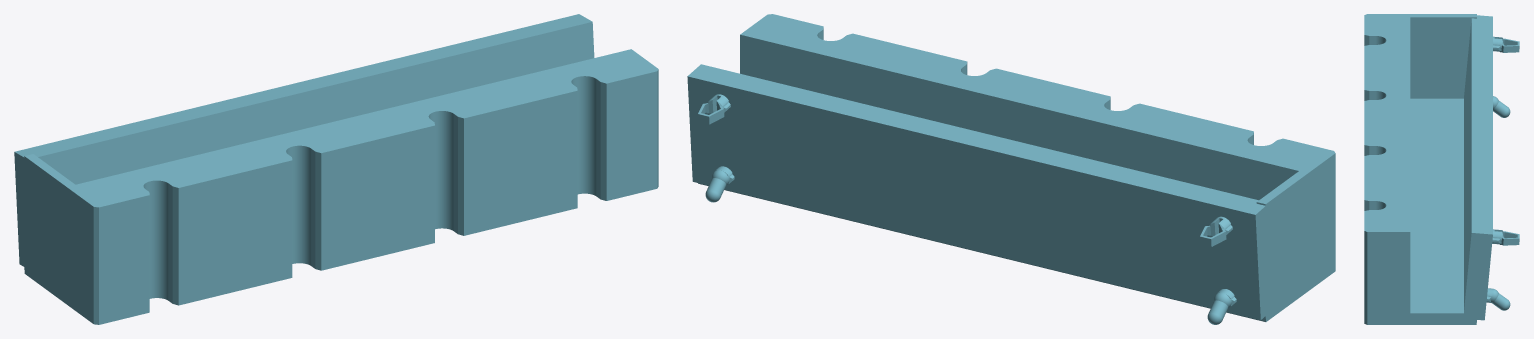
The model's file is part-mh03__current-mounts-v1__fit-pf02c9-hoop5__print.glb.
3 renders of one model, left to right at view 1: azimuth 30°, elevation 25°; view 2: azimuth 150°, elevation 25°; view 3: azimuth 270°, elevation 25°, orthographic. The views are drawn at different scales.
Visible parts, largest first — view 1: print.stl; view 2: print.stl; view 3: print.stl.
Boxes of the visible parts, x1,y1,x2,y2 form: print.stl: (14,14,658,324); print.stl: (687,14,1335,324); print.stl: (1364,14,1519,324).
Bounding box in the file's own units: 0.2012 × 0.04 × 0.0607.
